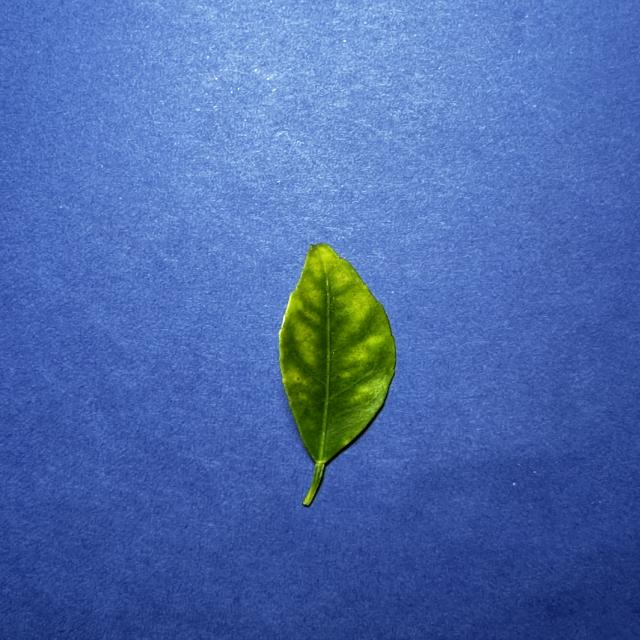greening: (279, 244, 396, 506)
